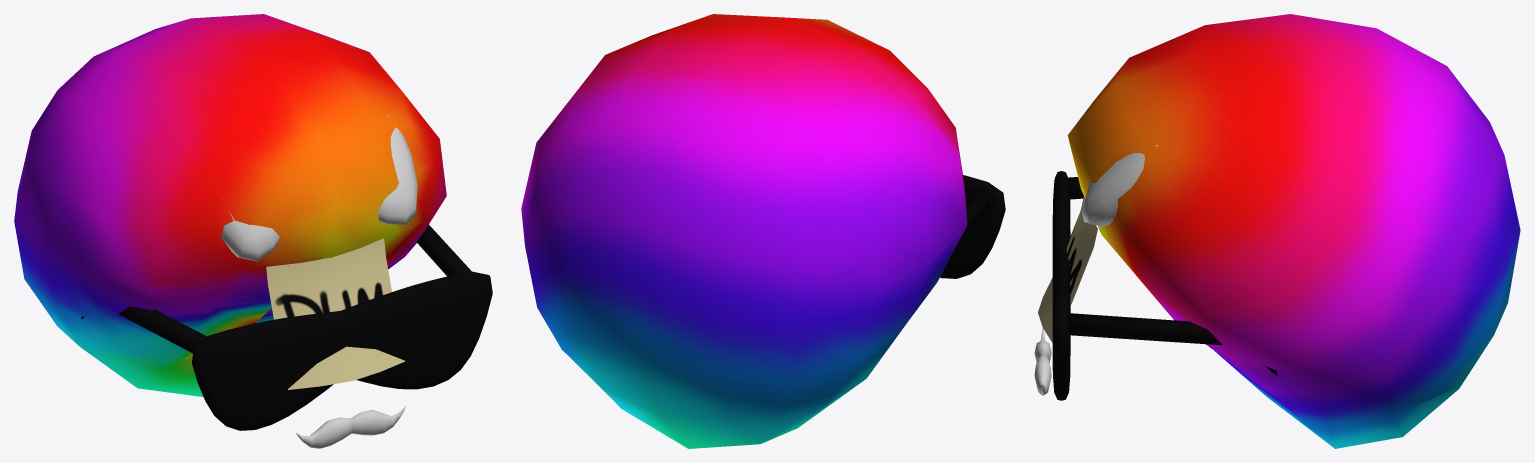
Rendered from Baby Accessories.fbx.
3 renders of one model, left to right at view 1: azimuth 30°, elevation 25°; view 2: azimuth 150°, elevation 25°; view 3: azimuth 270°, elevation 25°, orthographic. The views are drawn at different scales.
Visible parts, largest first — view 1: Afro, Glasses, Note, Bow, Mustache; view 2: Afro, Glasses; view 3: Afro, Glasses, Bow, Note, Mustache.
Part boxes in pixels (box(x1,y1,x2,y2)): Afro: box(14, 14, 446, 396); Glasses: box(81, 224, 492, 430); Note: box(266, 238, 405, 389); Bow: box(221, 115, 417, 261); Mustache: box(296, 406, 405, 448); Afro: box(521, 14, 967, 448); Glasses: box(940, 175, 1005, 278); Afro: box(1067, 14, 1520, 448); Glasses: box(1052, 171, 1277, 400); Bow: box(1081, 145, 1158, 226); Note: box(1038, 196, 1097, 342); Mustache: box(1034, 328, 1051, 395).
Size of the model in its own units: 238 by 231 by 254.
